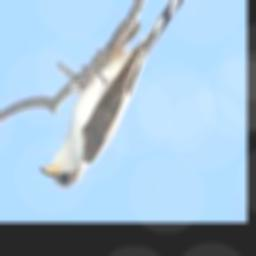Cuckoo: (40, 0, 190, 190)
